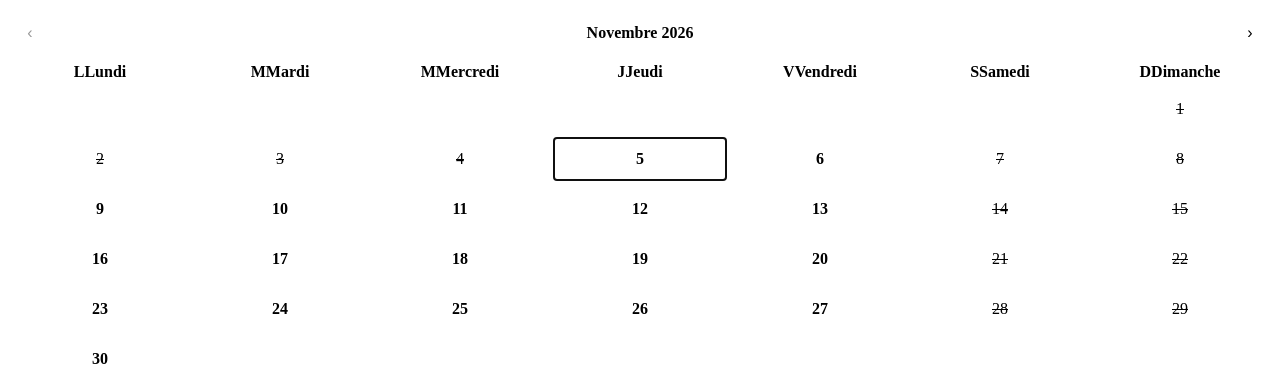
Test case: Calendar › change de mois au clavier et avec les boutons, dans les bornes
Expected: the button named "Mois précédent" is disabled, [8,11,52,55]
Press Pagedown
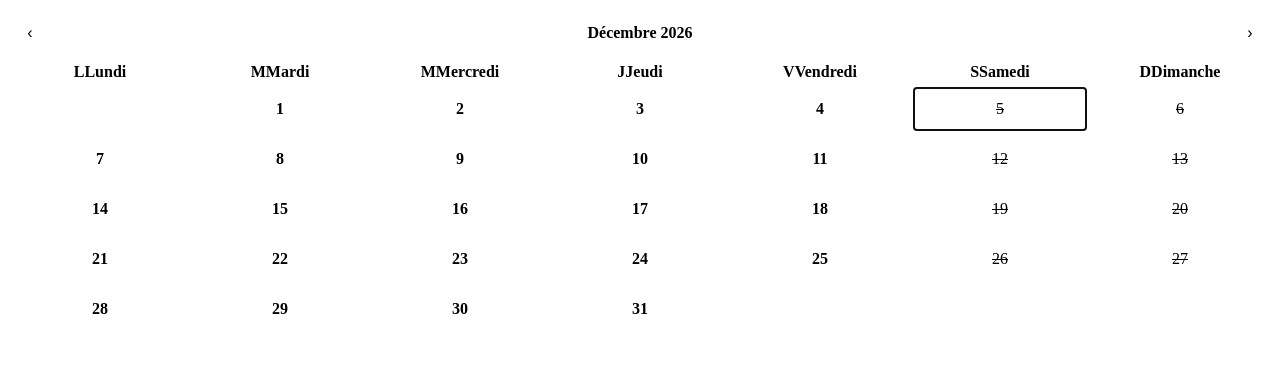
Expected: the table named "décembre 2026" is shown
Click the button named "Mois suivant": (1250, 33) [1228,11,1272,55]
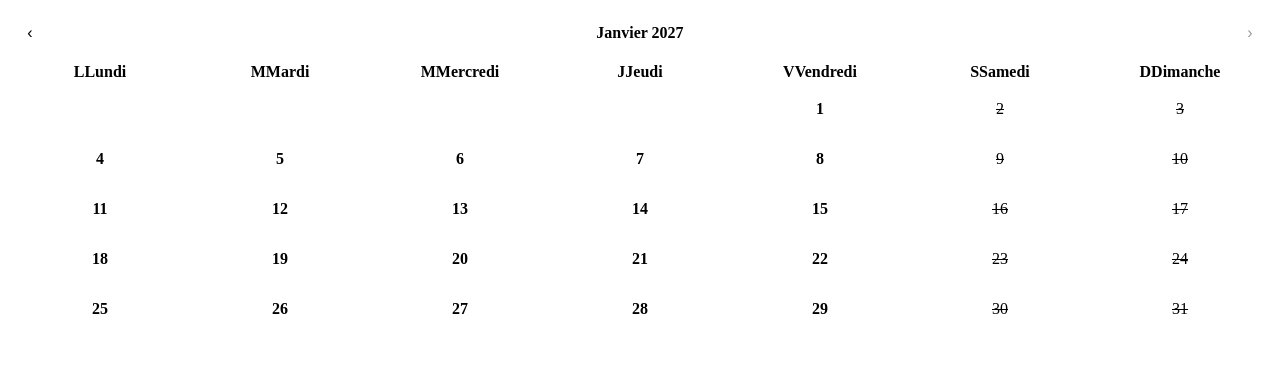
Expected: the table named "janvier 2027" is shown
